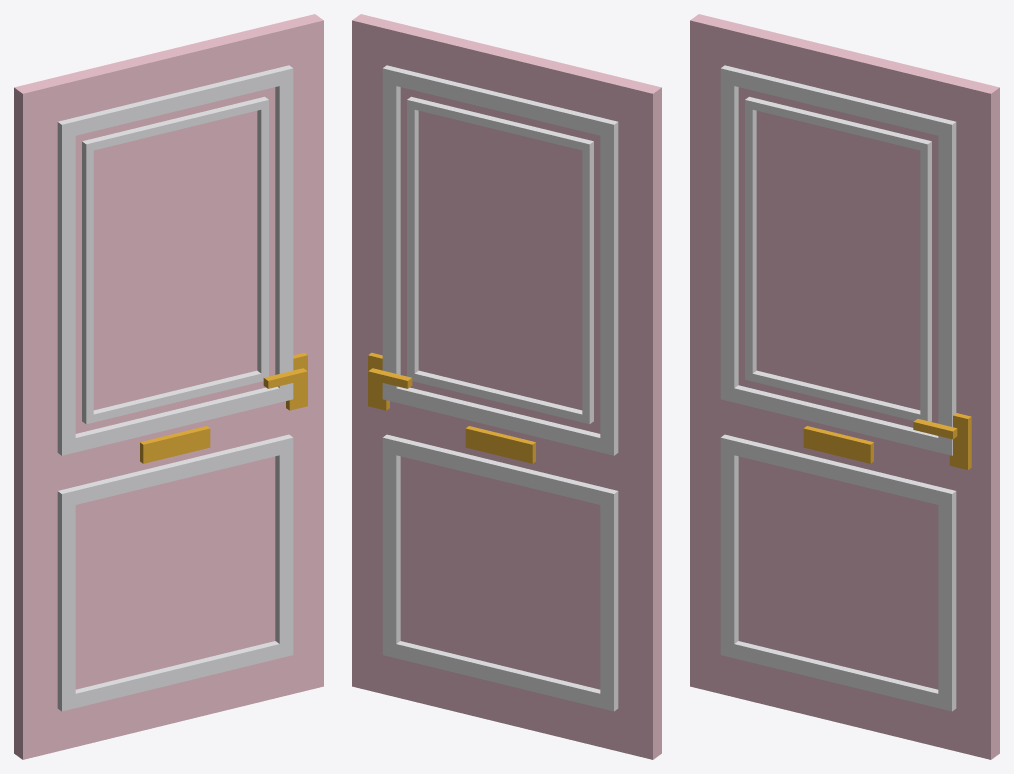
Rendered from SM_Door_girls_inner_100x210.fbx.
3 renders of one model, left to right at view 1: azimuth 30°, elevation 25°; view 2: azimuth 150°, elevation 25°; view 3: azimuth 330°, elevation 25°, orthographic.
Parts seen in each view (by area): view 1: SM_Door_girls_inner_100x210; view 2: SM_Door_girls_inner_100x210; view 3: SM_Door_girls_inner_100x210.
Part boxes in pixels (x1=…): SM_Door_girls_inner_100x210: x1=14, y1=14, x2=323, y2=759; SM_Door_girls_inner_100x210: x1=352, y1=14, x2=661, y2=759; SM_Door_girls_inner_100x210: x1=690, y1=14, x2=999, y2=759.
Bounding box in the file's own units: 0.988 × 2.09 × 0.175.
